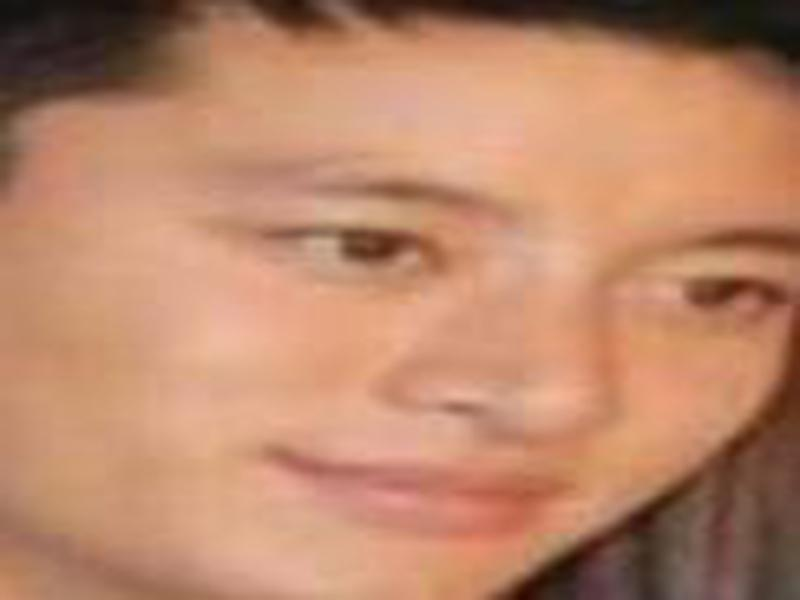without_mask: (74, 19, 797, 591)
